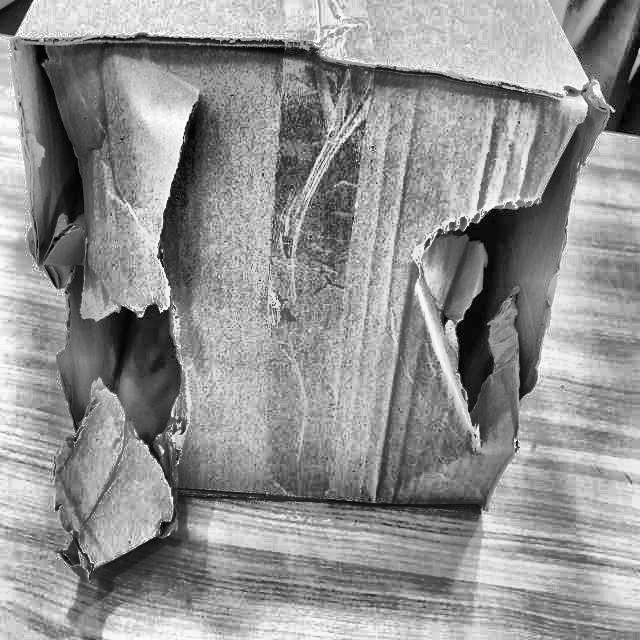box: (4, 0, 619, 581)
hole: (8, 43, 202, 510), (419, 73, 583, 413)
